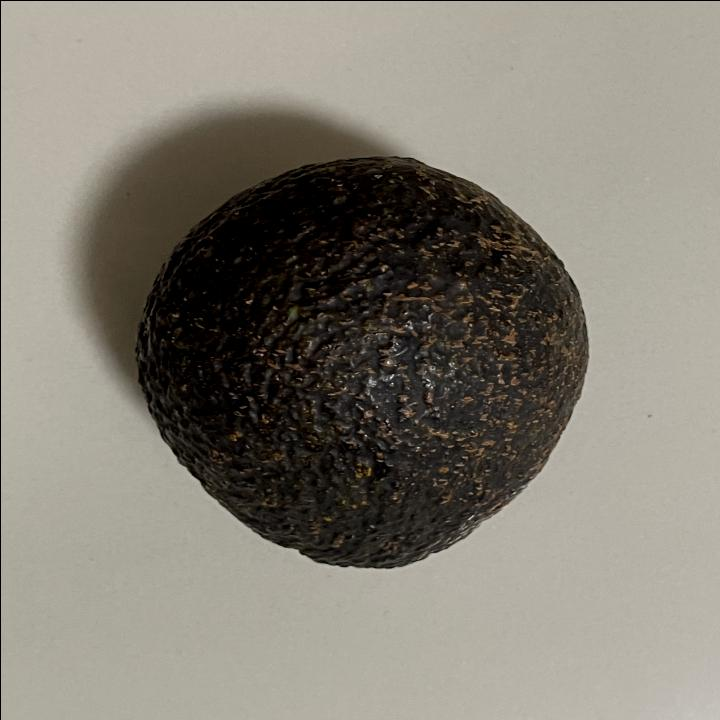Level3: (122, 150, 604, 576)
